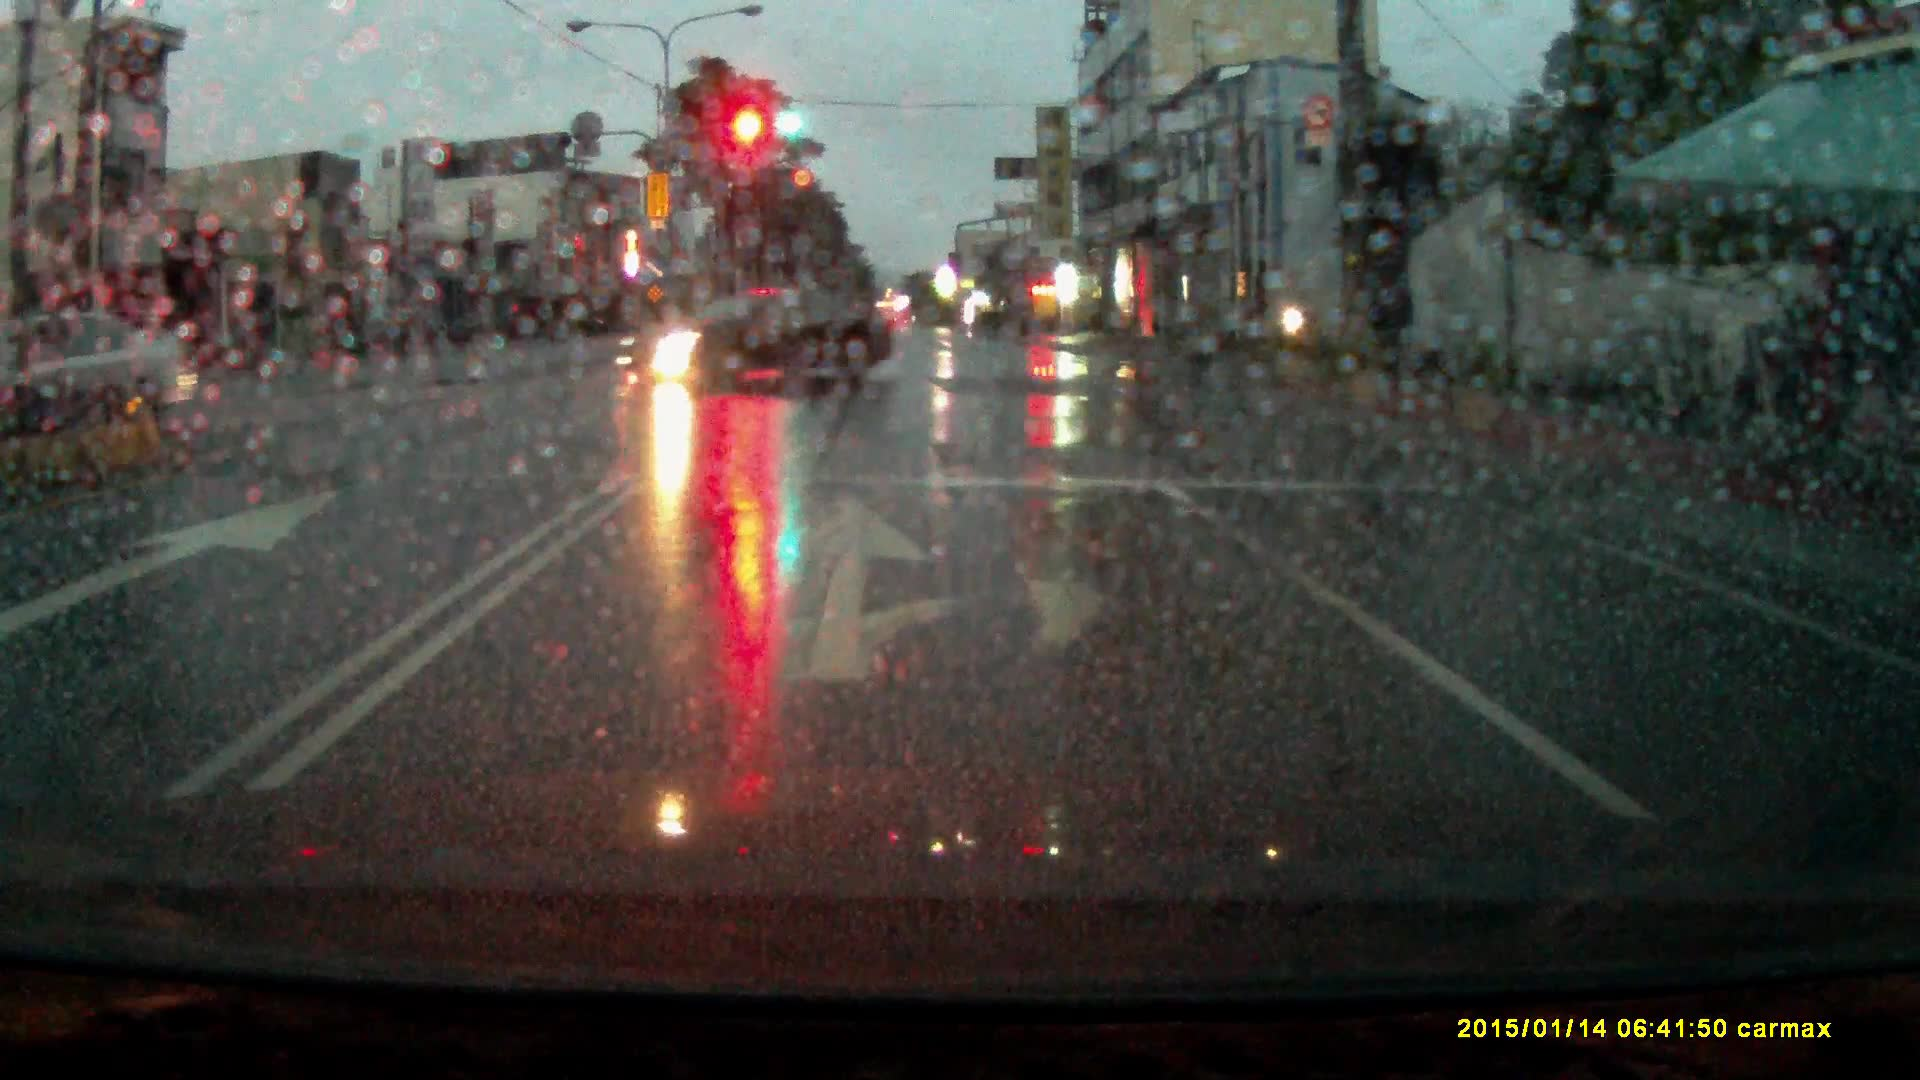rider: (1274, 281, 1323, 358)
vehicle: (610, 289, 888, 395)
